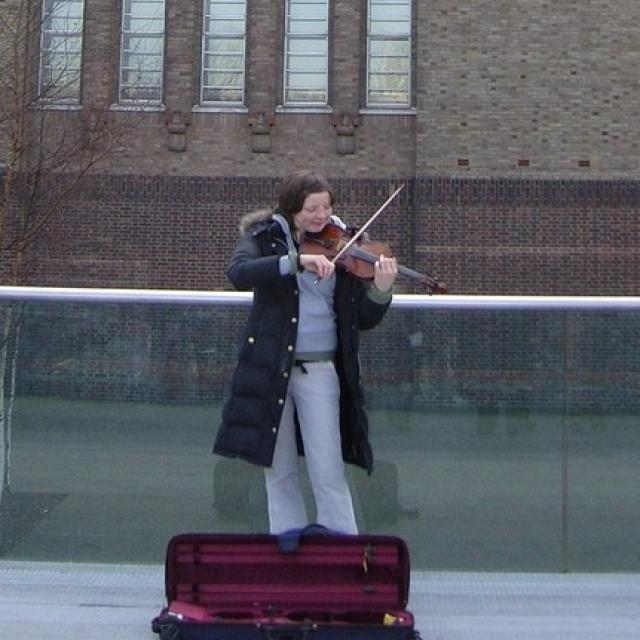violin: (298, 222, 453, 298)
